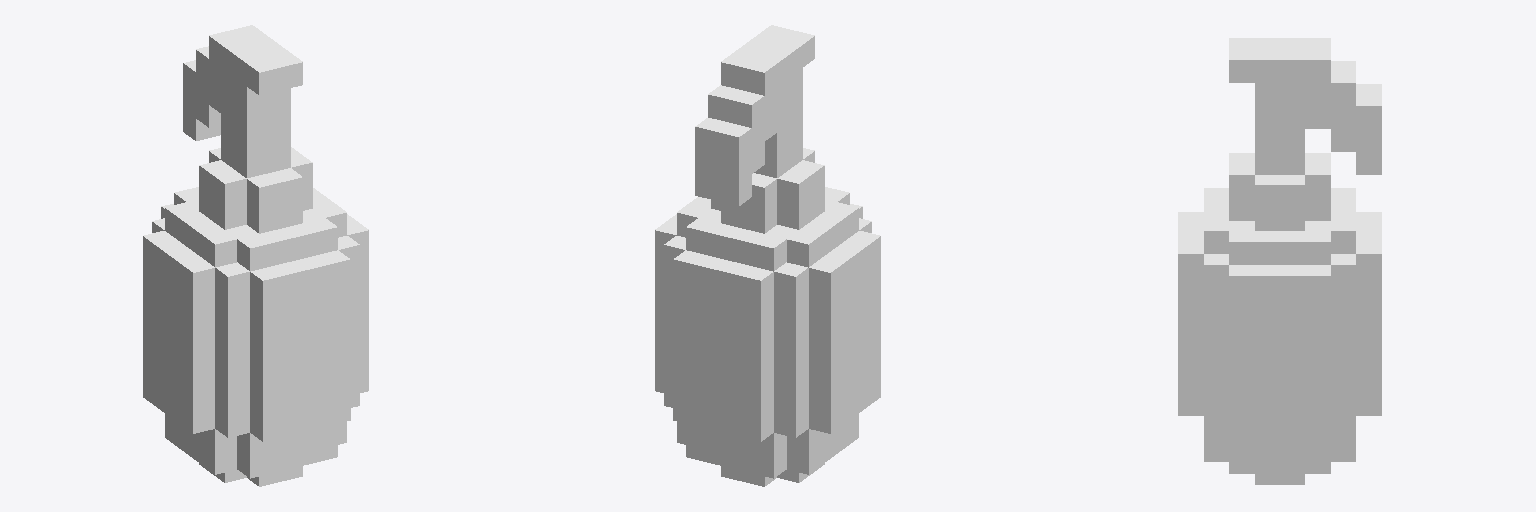
File: goo_grenade_throwable.vox.obj
The picture shows the model from 3 angles: view 1: azimuth 30°, elevation 25°; view 2: azimuth 150°, elevation 25°; view 3: azimuth 270°, elevation 25°; orthographic projection.
Parts seen in each view (by area): view 1: object 1; view 2: object 1; view 3: object 1.
Boxes of the visible parts, <box> form: object 1: <box>143,25,368,486</box>; object 1: <box>655,25,880,486</box>; object 1: <box>1178,38,1381,484</box>.
Size of the model in its own units: 0.8 by 1.8 by 0.8.